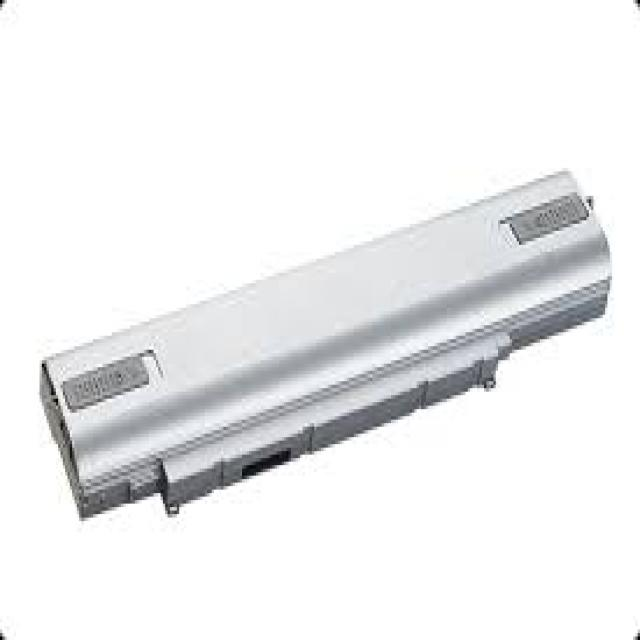non-organic waste: (39, 169, 613, 522)
